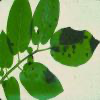Potato leaf early blight: (50, 26, 99, 66), (18, 61, 65, 99), (32, 0, 60, 50)
